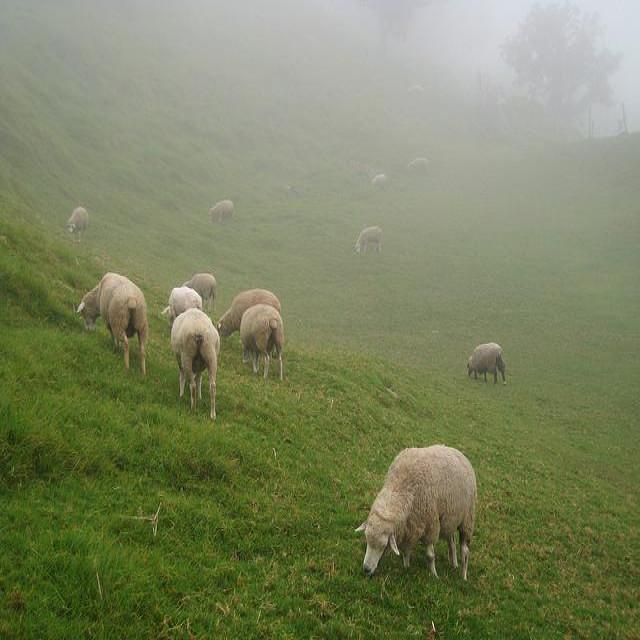Sheep: (357, 446, 477, 582), (76, 272, 148, 383), (168, 308, 226, 427), (216, 289, 281, 363), (240, 304, 284, 380)
